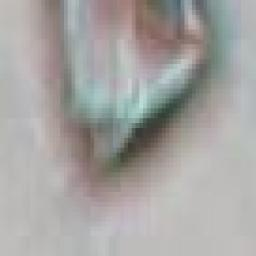crystals: (44, 1, 224, 182)
